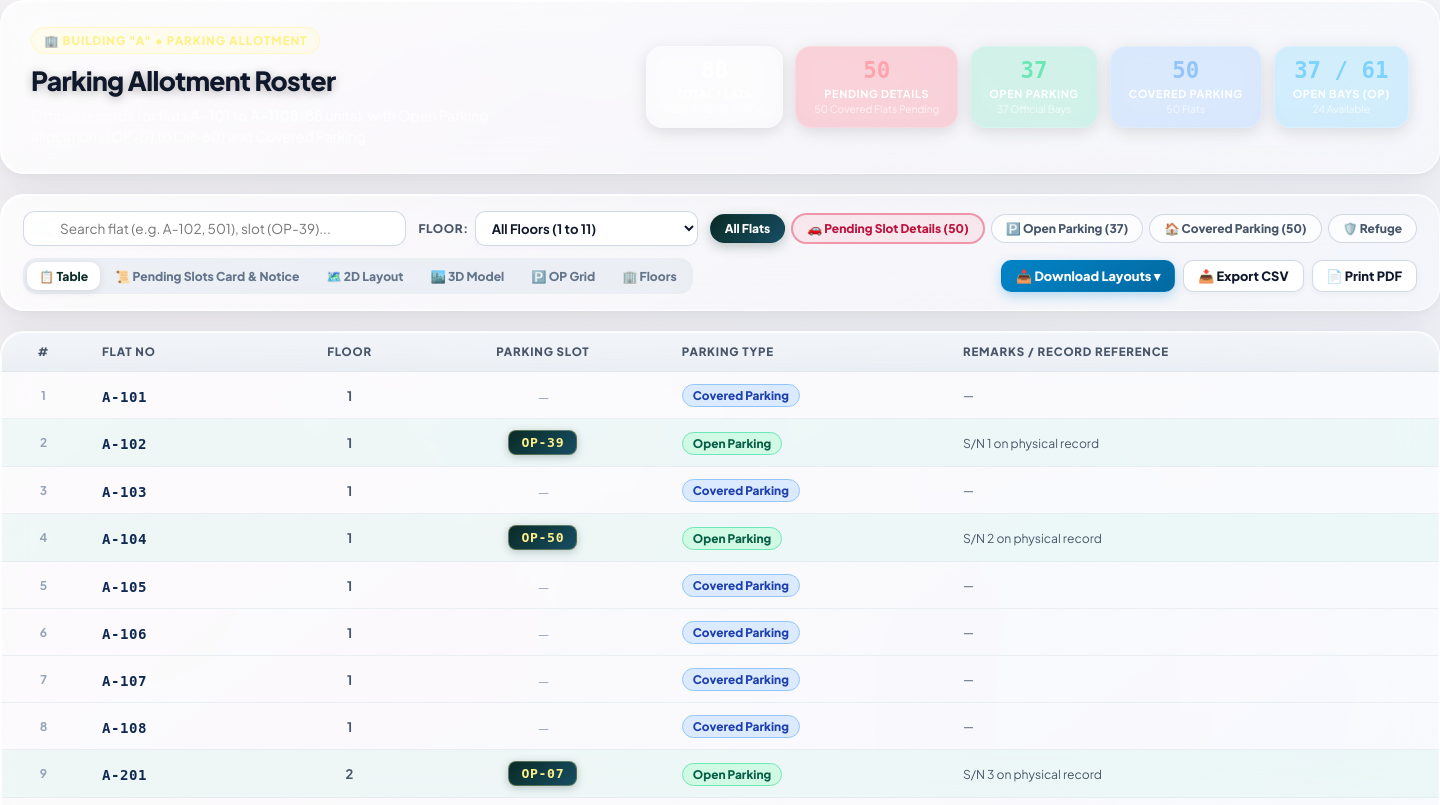
Test case: ParkingAllotmentTracker › filters roster by Pending Slot Details and switches to Pending Slots Card view
The width and height of the screenshot is (1440, 805).
Click Pending Slot Details filter chip
Click the button "🚗 Pending Slot Details (50)". click: {"x": 888, "y": 229}
box: [791, 213, 985, 244]
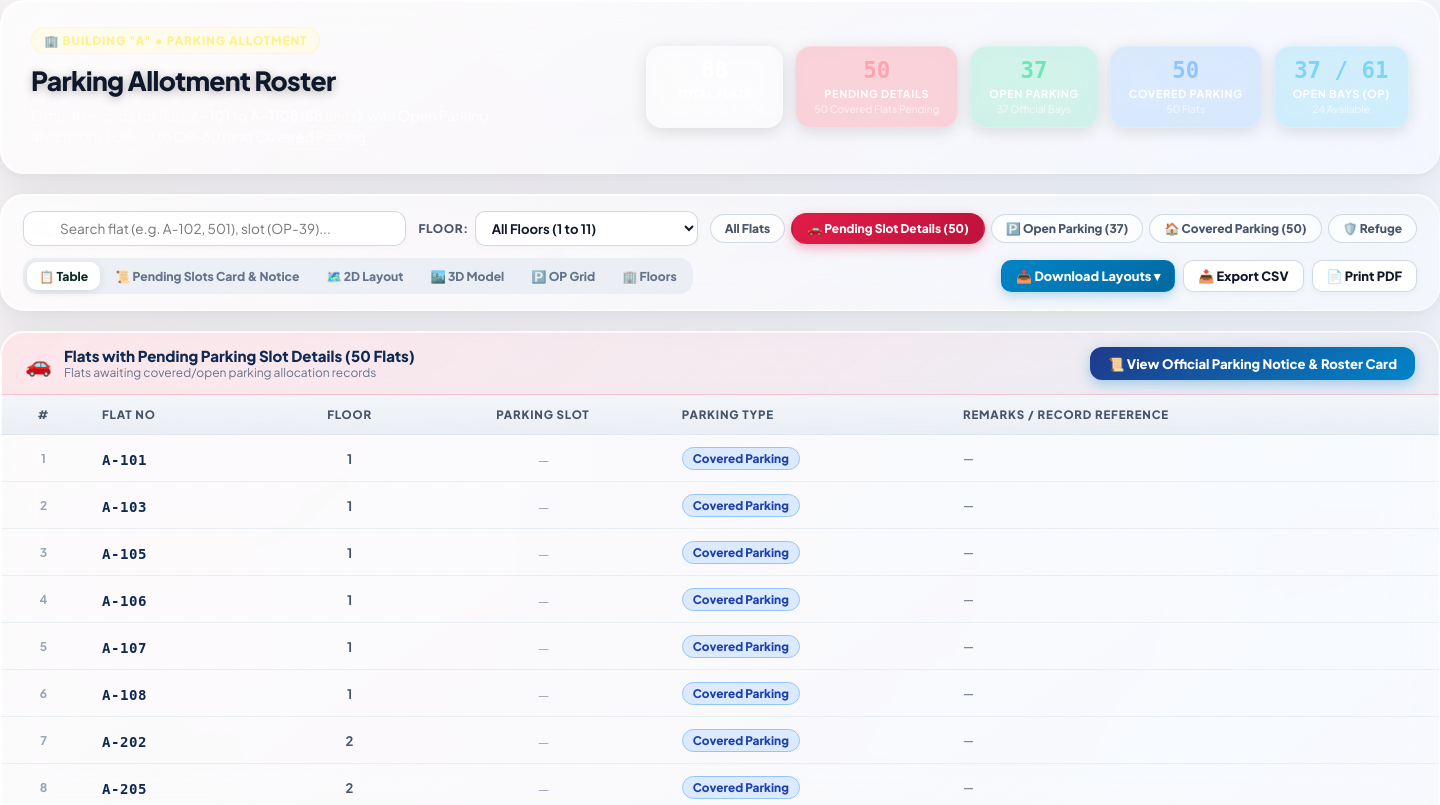
Expected: the text "A-101" is shown, [102, 452, 147, 468]
Expected: the text "Flats with Pending Parking Slot Details (50 Flats)" is shown, [64, 346, 415, 365]
Switch to Pending Slots Card view
Click the button "📜 Pending Slots Card & Notice". click: {"x": 207, "y": 276}
box: [103, 262, 311, 290]
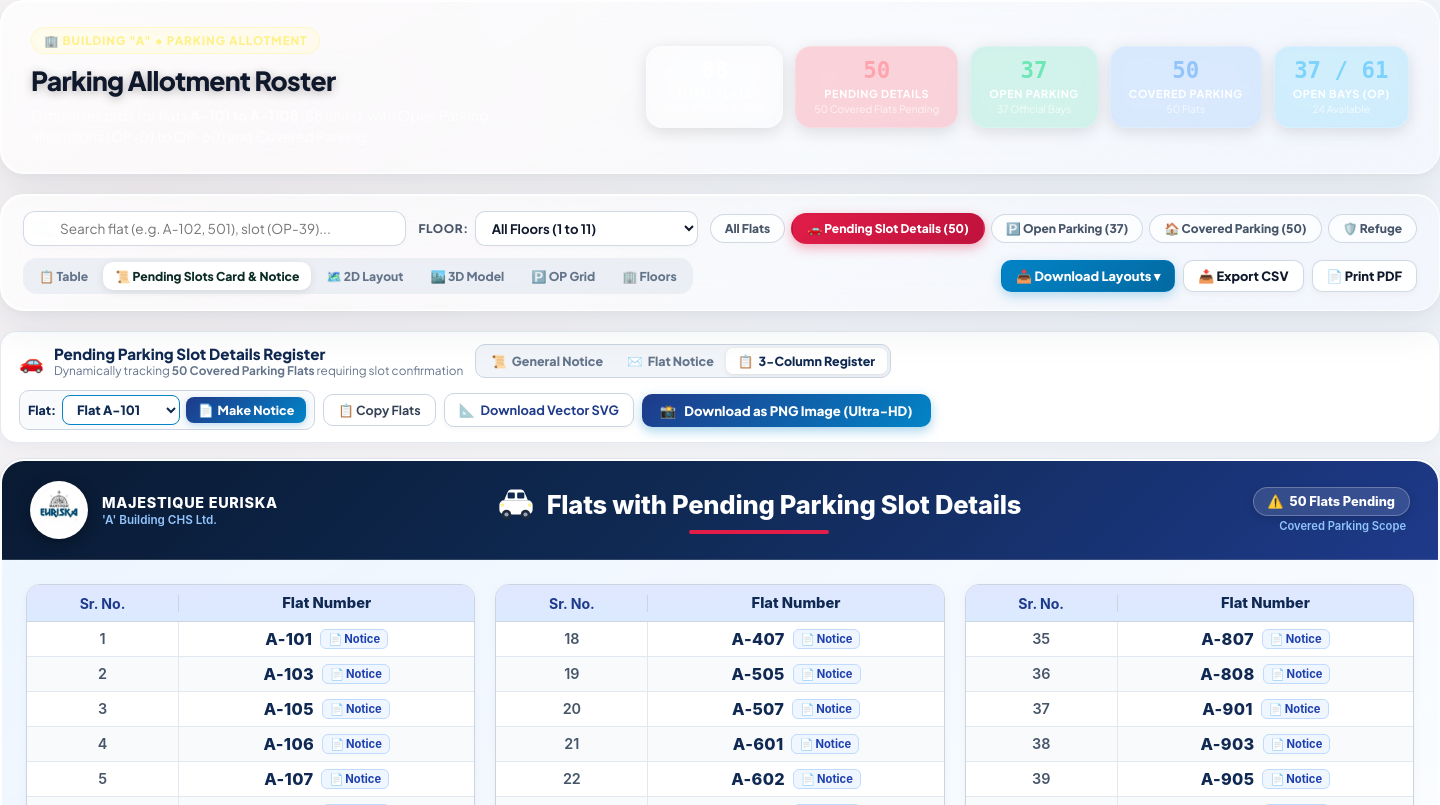
Expected: the heading "Flats with Pending Parking Slot Details" is shown, [547, 490, 1021, 521]
Expected: the button "📸 Download as PNG Image (Ultra-HD)" is shown, [642, 394, 931, 427]
Expected: the button "📋 Copy Flats" is shown, [323, 394, 436, 426]
